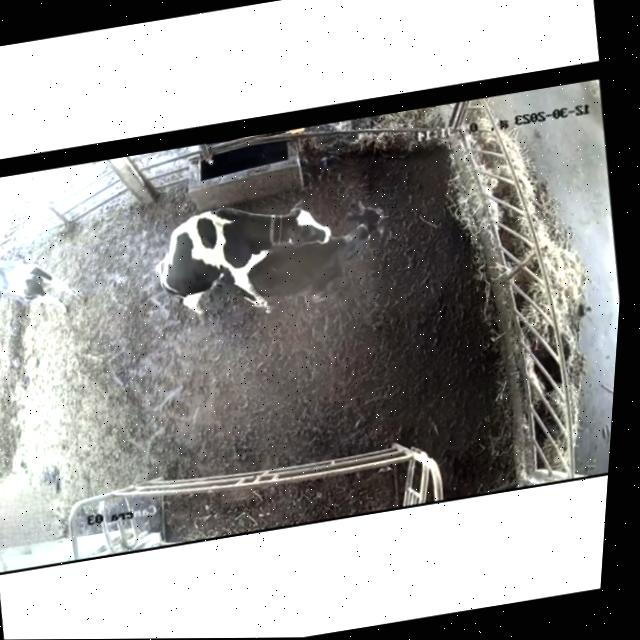ride: (155, 199, 332, 316)
stand: (249, 200, 389, 300)
